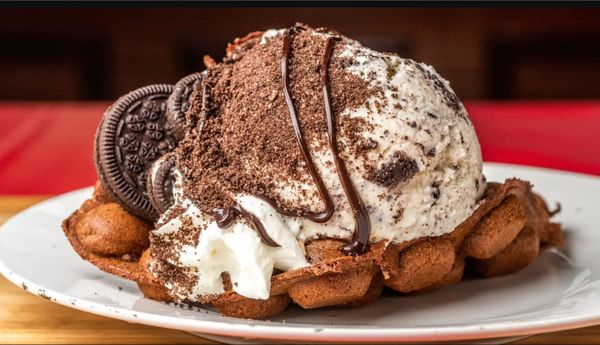soup: (89, 23, 486, 317)
